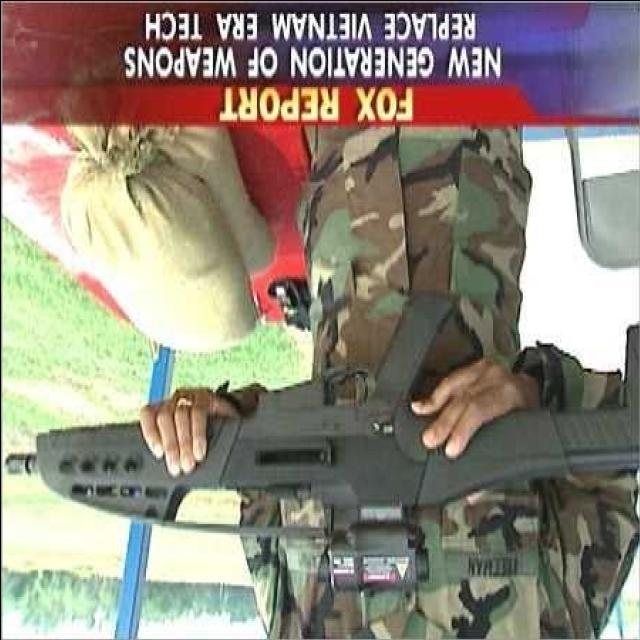heavyweapon: (14, 277, 640, 573)
